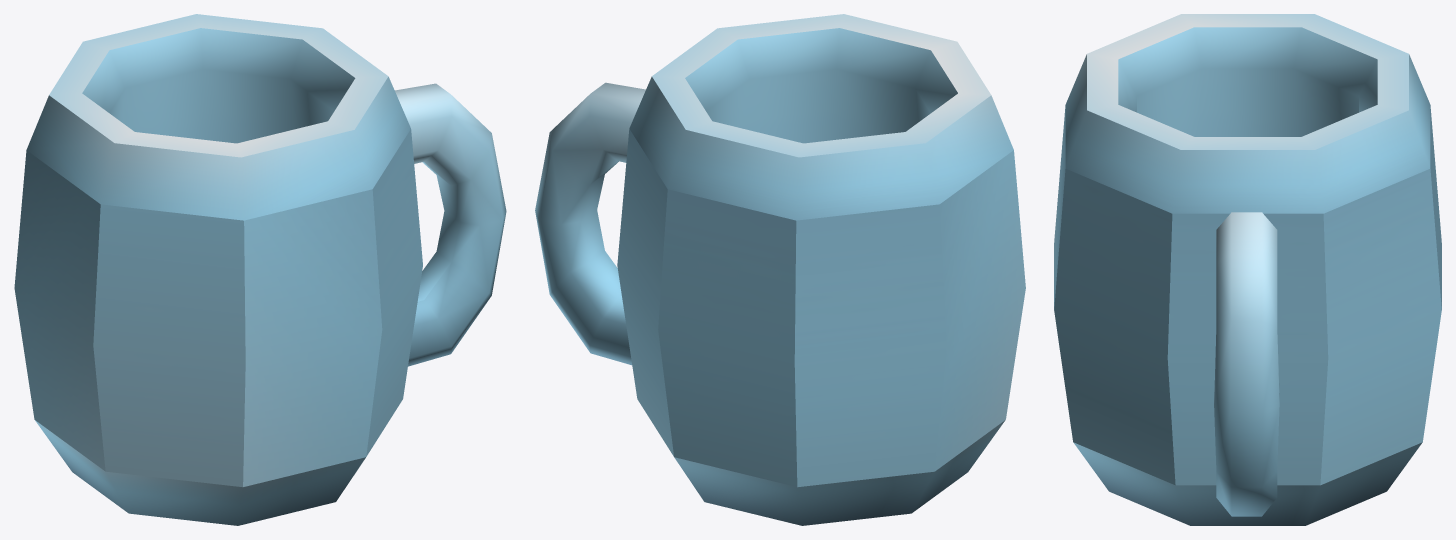
File: mug_glass.fbx
3 views of the same model, side by side, from view 1: azimuth 30°, elevation 25°; view 2: azimuth 150°, elevation 25°; view 3: azimuth 270°, elevation 25° (orthographic).
Parts seen in each view (by area): view 1: mug_glass; view 2: mug_glass; view 3: mug_glass.
Part boxes in pixels (x1,y1,x2,y2): mug_glass: [14, 14, 506, 525]; mug_glass: [535, 14, 1025, 525]; mug_glass: [1054, 14, 1441, 525].
Bounding box in the file's own units: 33.11 × 26.96 × 24.59.
